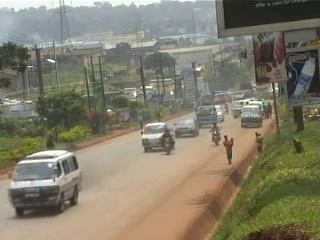Car: (170, 117, 202, 139), (215, 104, 227, 124)
Motorcycle: (160, 129, 175, 155), (206, 124, 224, 144)
